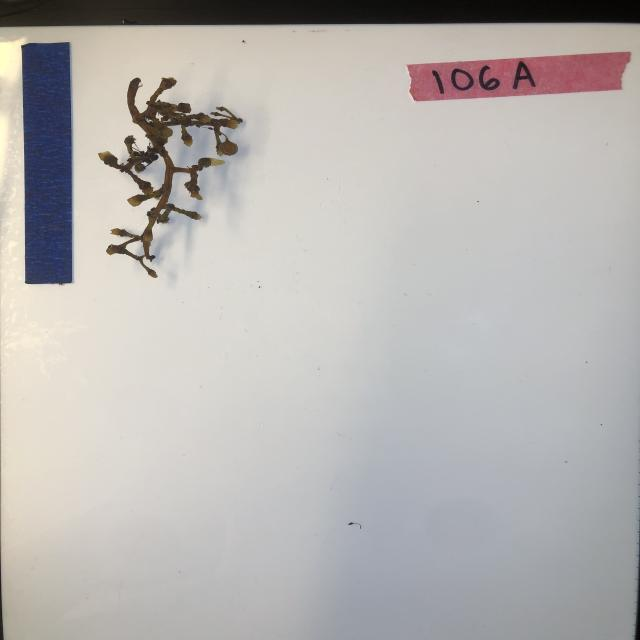index: (405, 50, 633, 102)
measure_label: (18, 40, 76, 285)
rachis_cluster: (92, 72, 242, 282)
